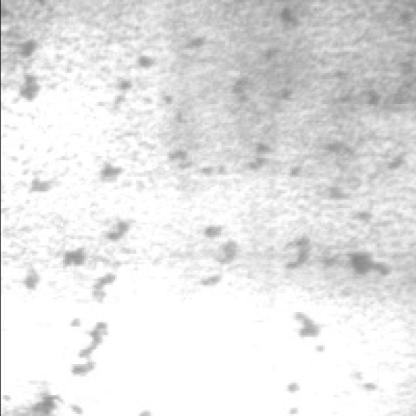pitted_surface: (19, 94, 314, 408), (20, 14, 408, 224)
